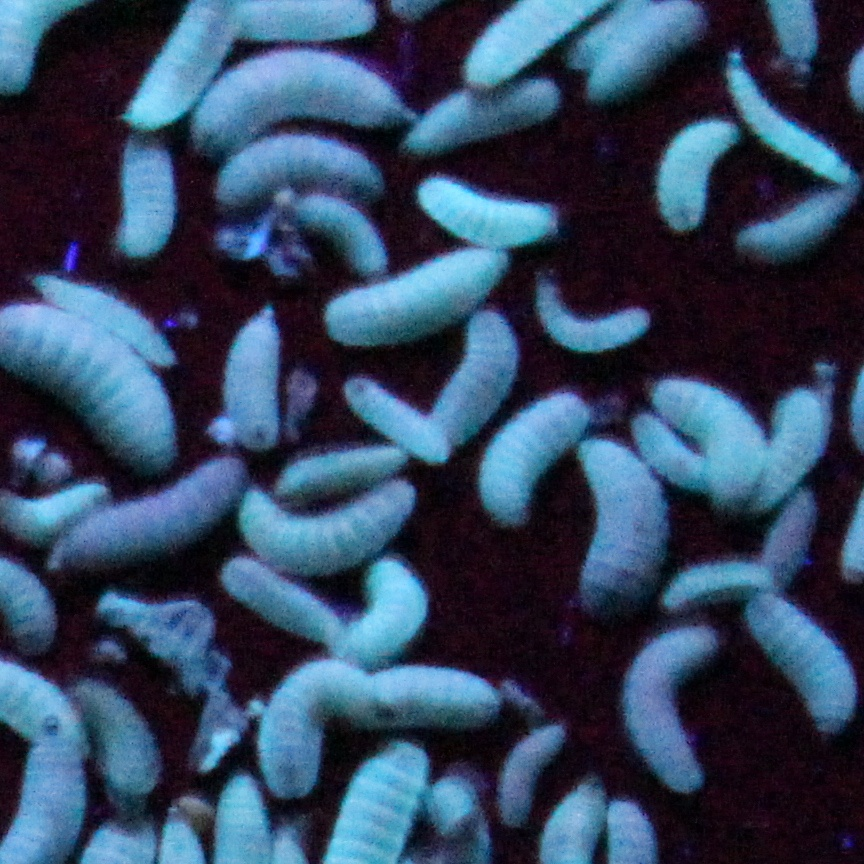larve: (724, 575, 861, 717), (58, 462, 248, 562), (324, 247, 511, 340), (642, 377, 763, 519), (719, 50, 844, 180), (619, 636, 724, 787), (576, 437, 665, 614), (237, 483, 409, 573), (484, 403, 606, 524), (257, 660, 362, 800), (111, 1, 232, 121), (417, 309, 524, 444), (196, 52, 404, 121), (737, 390, 835, 514), (584, 1, 712, 95), (406, 77, 560, 155), (40, 273, 175, 359), (211, 131, 393, 193), (653, 109, 740, 236), (216, 572, 352, 645), (470, 3, 589, 86), (425, 170, 553, 245), (358, 665, 511, 721), (342, 557, 429, 655), (537, 275, 642, 354), (106, 134, 176, 250), (347, 375, 442, 459), (752, 180, 858, 255), (224, 306, 278, 445), (286, 195, 381, 272), (498, 724, 570, 819), (284, 447, 404, 500), (646, 558, 797, 599), (630, 411, 707, 486), (227, 1, 373, 40)
